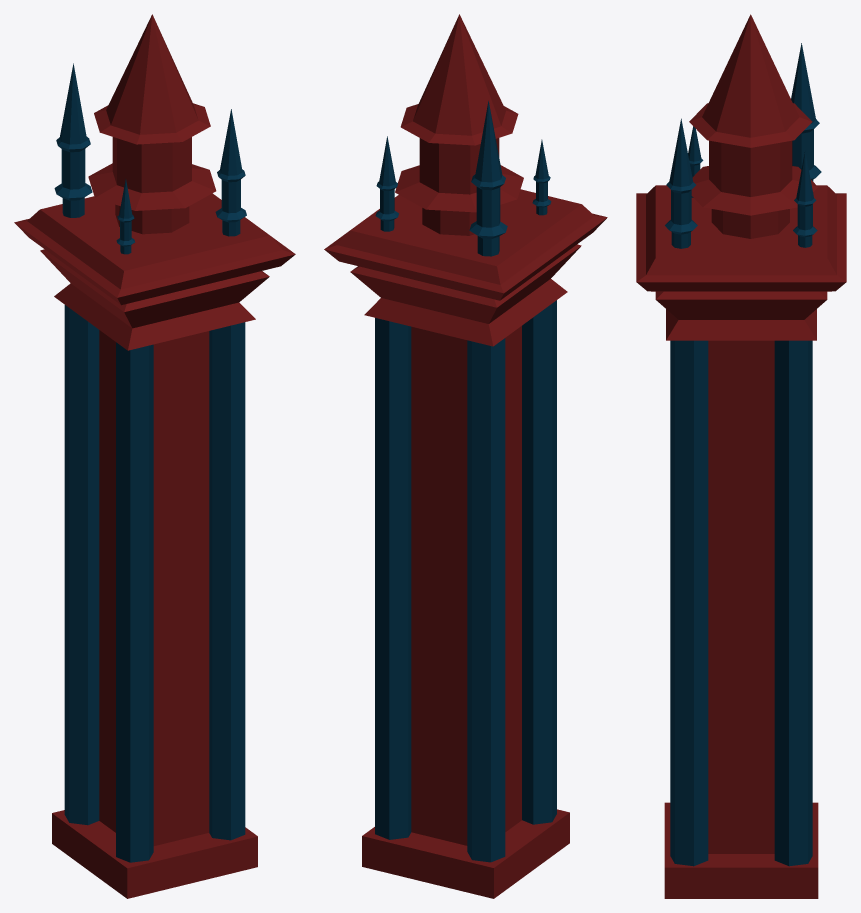
Rendered from HellPillar.fbx.
3 renders of one model, left to right at view 1: azimuth 30°, elevation 25°; view 2: azimuth 150°, elevation 25°; view 3: azimuth 270°, elevation 25°, orthographic.
Visible parts, largest first — view 1: Cube.022, Cube.023, Cone, Cone.001, Cone.004, Cone.003; view 2: Cube.022, Cube.023, Cone, Cone.001, Cone.002, Cone.003; view 3: Cube.022, Cube.023, Cone, Cone.004, Cone.001, Cone.002, Cone.003.
Boxes of the visible parts, x1,y1,x2,y2 form: Cube.022: (14,193,295,898); Cube.023: (64,305,245,862); Cone: (88,14,216,234); Cone.001: (54,63,92,217); Cone.004: (215,109,246,236); Cone.003: (116,179,135,254); Cube.022: (324,189,607,898); Cube.023: (375,300,556,862); Cone: (395,14,523,235); Cone.001: (469,101,507,256); Cone.002: (375,136,398,231); Cone.003: (532,139,551,215); Cube.022: (636,185,846,898); Cube.023: (670,340,812,866); Cone: (689,14,817,238); Cone.004: (665,118,697,248); Cone.001: (791,43,821,192); Cone.002: (793,150,817,247); Cone.003: (688,126,703,197).
Size of the model in its own units: 137 by 612 by 137.
